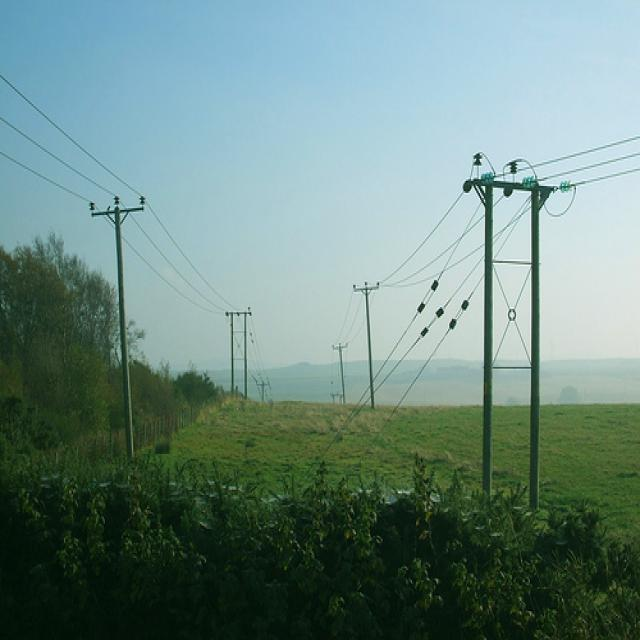crossarm: (463, 160, 576, 222), (90, 195, 152, 225)
pole: (467, 183, 497, 502), (102, 201, 134, 463), (530, 195, 544, 510)
wire: (346, 281, 481, 480), (0, 73, 136, 191), (1, 115, 111, 195), (135, 219, 225, 313), (125, 242, 224, 317), (151, 209, 227, 305), (532, 137, 640, 169), (544, 152, 640, 181), (0, 153, 62, 187), (573, 167, 640, 185)
